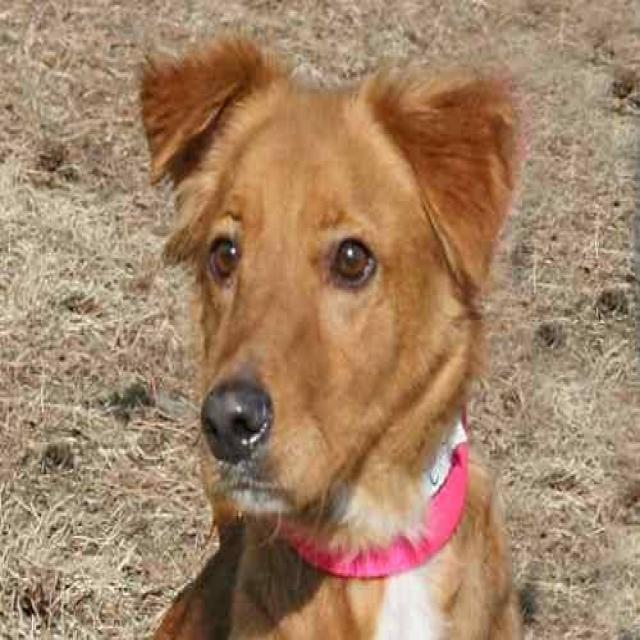dog: (130, 32, 532, 638)
